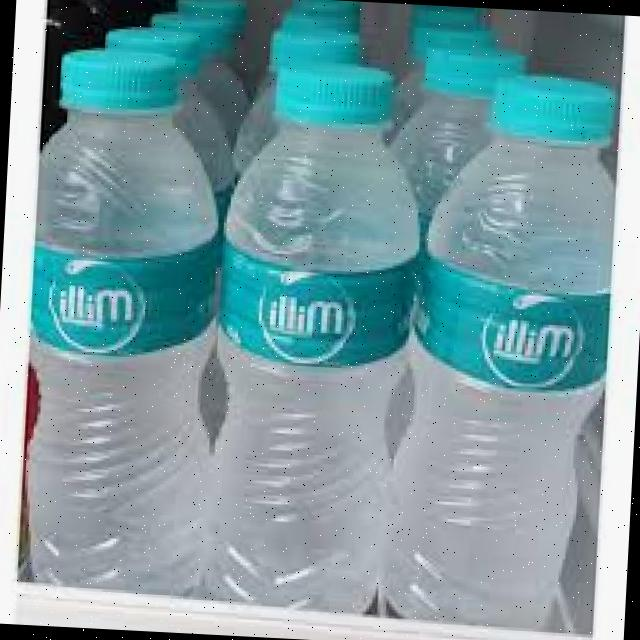bottle: (367, 67, 633, 628), (198, 61, 426, 617), (12, 52, 204, 592), (50, 24, 225, 563), (364, 22, 540, 509), (216, 28, 370, 514)
cap: (484, 67, 618, 147), (264, 57, 406, 129), (50, 54, 186, 119)
label: (0, 219, 218, 372), (396, 264, 598, 362), (205, 262, 388, 368)
